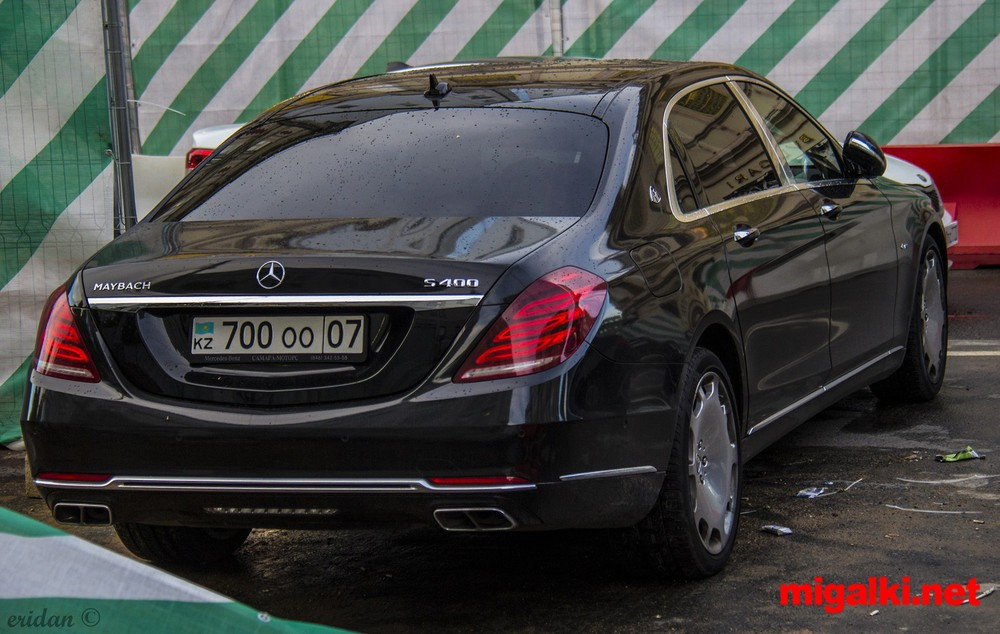license_plate: (184, 317, 372, 359)
